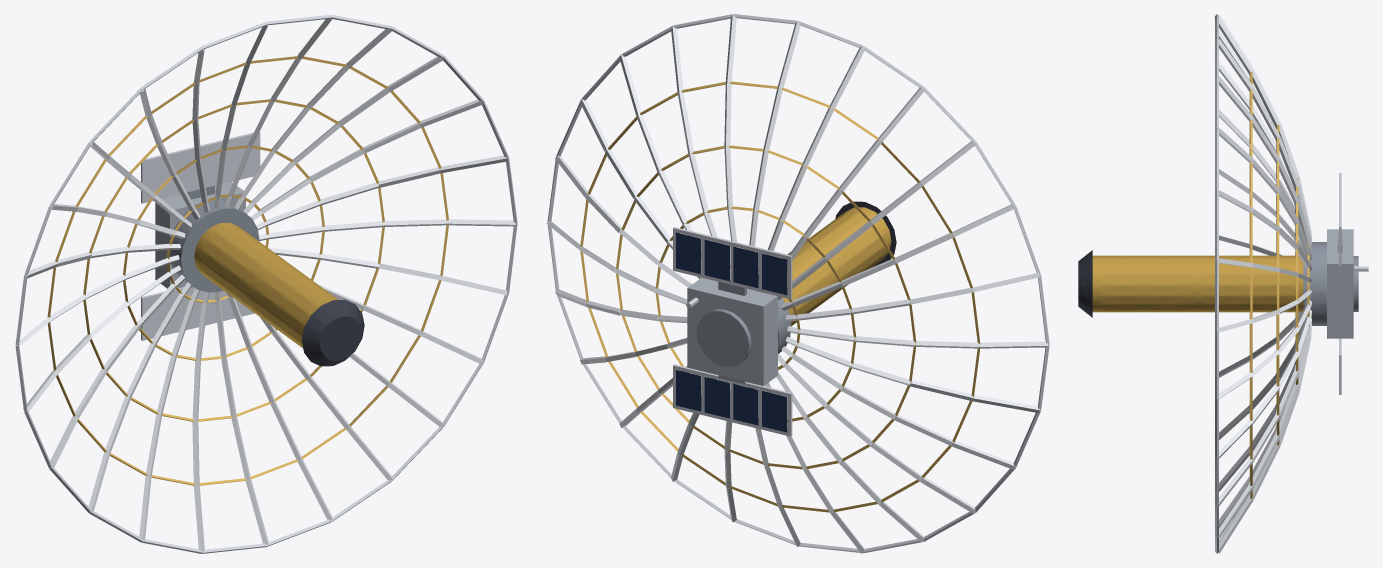
The model's file is umbra.glb.
3 renders of one model, left to right at view 1: azimuth 30°, elevation 25°; view 2: azimuth 150°, elevation 25°; view 3: azimuth 270°, elevation 25°, orthographic. The views are drawn at different scales.
Visible parts, largest first — view 1: body, foil; view 2: body, foil, solar-panel; view 3: body, foil.
Part boxes in pixels (x1=…): body: x1=15, y1=14, x2=517, y2=553; foil: x1=47, y1=56, x2=448, y2=485; body: x1=546, y1=14, x2=1049, y2=553; foil: x1=580, y1=81, x2=980, y2=512; solar-panel: x1=676, y1=232, x2=787, y2=432; body: x1=1078, y1=14, x2=1368, y2=553; foil: x1=1092, y1=71, x2=1309, y2=498.
Size of the model in its own units: 3.83 by 3.83 by 2.05.
